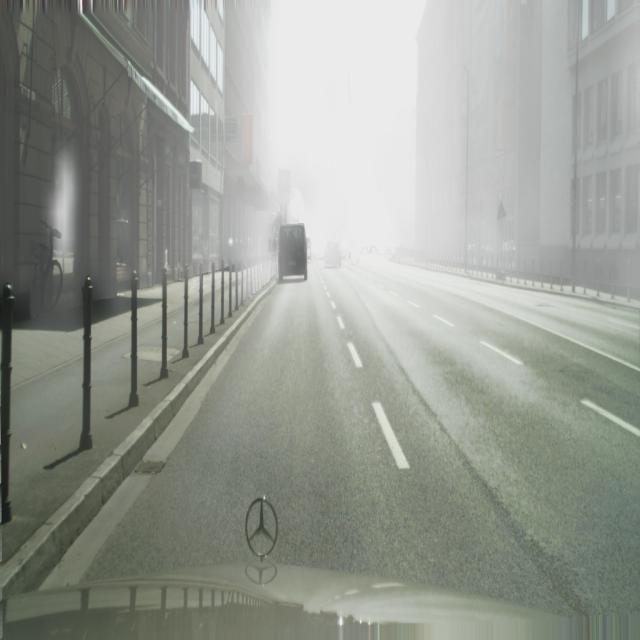car: (30, 221, 63, 317)
rider: (278, 222, 308, 281)
truck: (278, 223, 307, 281), (324, 239, 342, 267), (312, 236, 325, 261), (338, 236, 351, 258)
